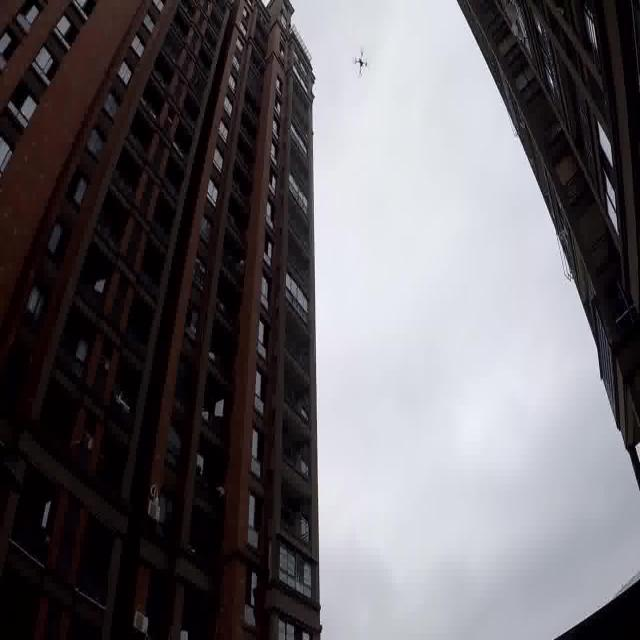drone: (346, 35, 378, 85)
